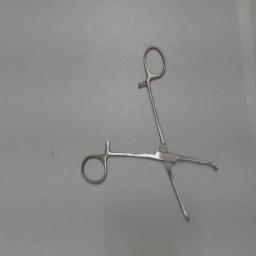Allis Tissue Forceps: (76, 41, 228, 231)
